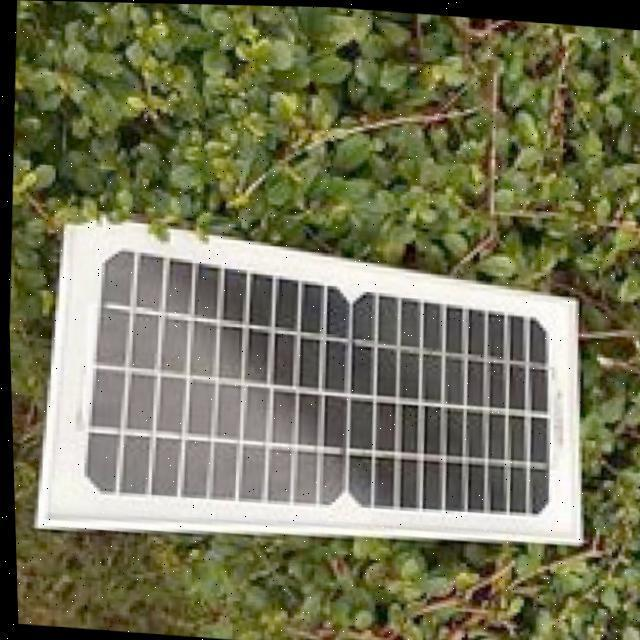Normal Solar Panel: (25, 218, 592, 558)
